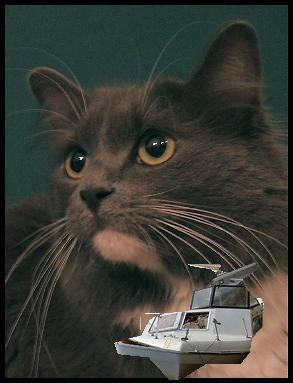tampered: (115, 263, 264, 380)
